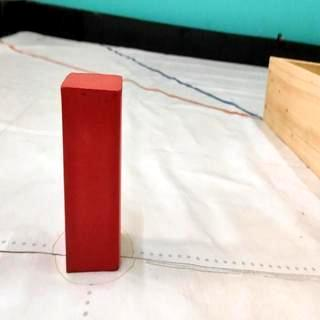redbox: (62, 71, 124, 272)
